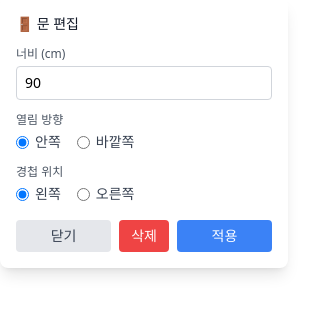
Test: DoorEditForm 컴포넌트 › 0 이하 너비 입력 시 에러 표시
The image size is (320, 322).
Replace the text in the number field with "0" at (144, 83), box [16,66,272,100]
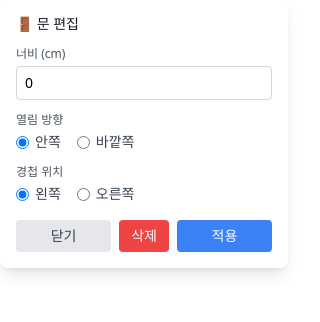
Click the button "적용" at (224, 236), box [177,220,272,252]
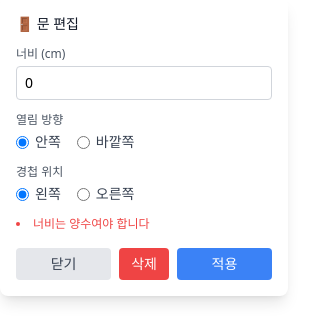
Result: the text "너비는 양수여야 합니다" is shown at [33,215,150,232]
